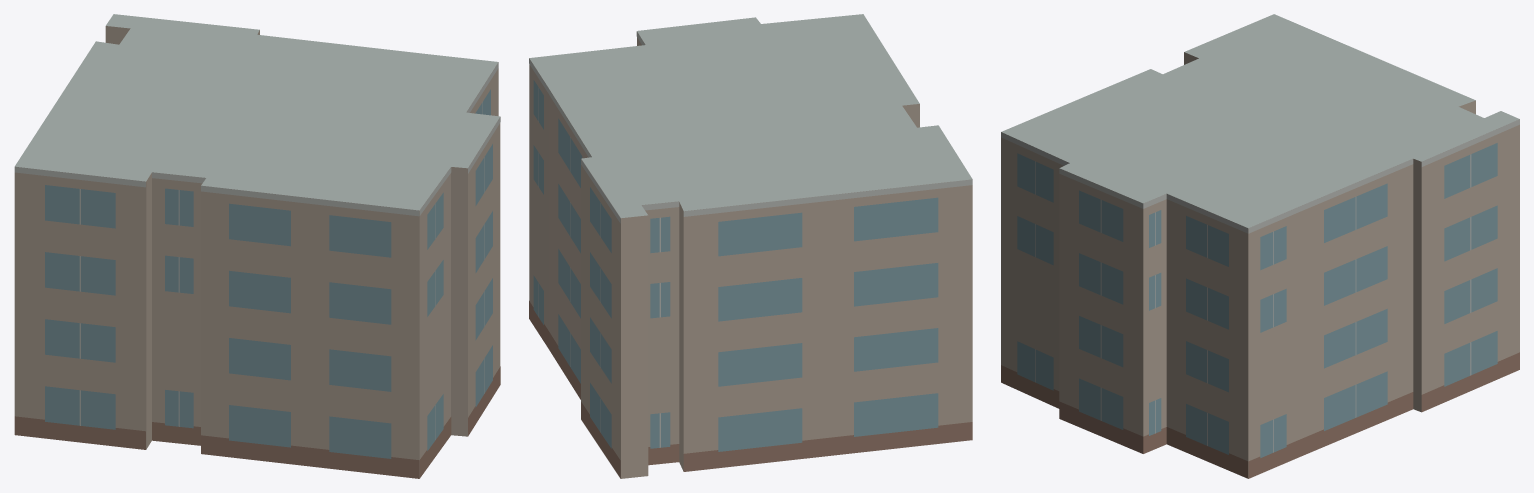
File: survey-upis-32772388.glb
3 renders of one model, left to right at view 1: azimuth 30°, elevation 25°; view 2: azimuth 150°, elevation 25°; view 3: azimuth 270°, elevation 25°, orthographic. The views are drawn at different scales.
Visible parts, largest first — view 1: survey-upis-32772388.tmp; view 2: survey-upis-32772388.tmp; view 3: survey-upis-32772388.tmp.
Boxes of the visible parts, left/top/right/bottom form: survey-upis-32772388.tmp: left=14, top=14, right=500, bottom=478; survey-upis-32772388.tmp: left=529, top=14, right=972, bottom=478; survey-upis-32772388.tmp: left=1001, top=14, right=1519, bottom=478.
Bounding box in the file's own units: 20.51 × 11.18 × 20.98.
